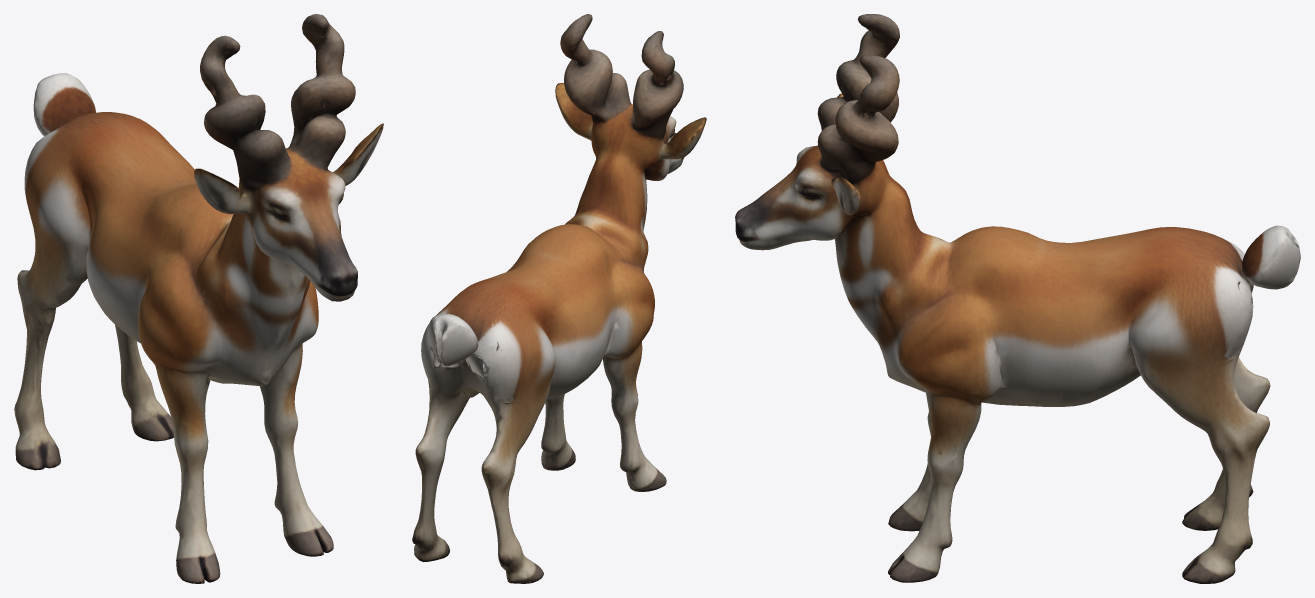
The picture shows the model from 3 angles, left to right: view 1: azimuth 30°, elevation 25°; view 2: azimuth 150°, elevation 25°; view 3: azimuth 270°, elevation 25°; orthographic projection. The views are drawn at different scales.
Parts seen in each view (by area): view 1: world; view 2: world; view 3: world.
Boxes of the visible parts, left/top/right/bottom form: world: left=14, top=14, right=383, bottom=583; world: left=412, top=14, right=706, bottom=583; world: left=735, top=14, right=1300, bottom=583.
Size of the model in its own units: 0.7048 by 1.97 by 1.97.
Materials: 1 (1 with a texture image).
